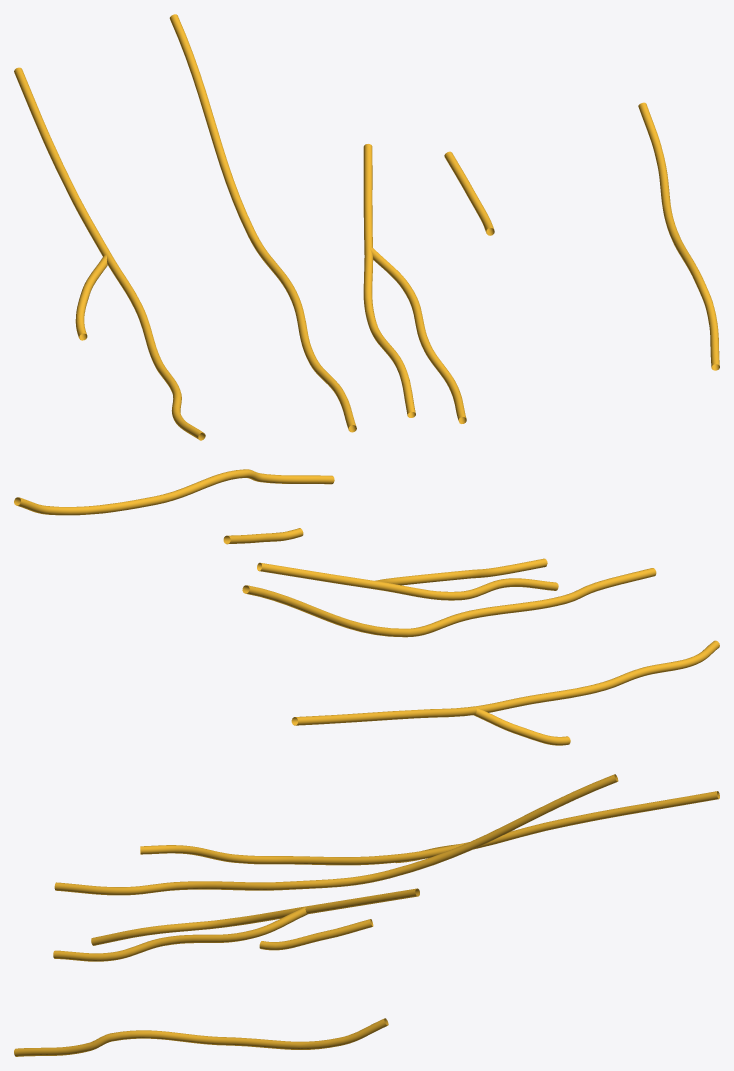
Rendered from nervoso-dorsal-digital-branches-of-superficial-fibular-nerve-r.glb.
3 views of the same model, one above another, from view 1: azimuth 30°, elevation 25°; view 2: azimuth 150°, elevation 25°; view 3: azimuth 270°, elevation 25° (orthographic). The views are drawn at different scales.
Visible parts, largest first — view 1: Dorsal digital branches of superficial fibular nerve.r; view 2: Dorsal digital branches of superficial fibular nerve.r; view 3: Dorsal digital branches of superficial fibular nerve.r.
Part boxes in pixels (<box>): Dorsal digital branches of superficial fibular nerve.r: <box>14,14,719,440</box>; Dorsal digital branches of superficial fibular nerve.r: <box>14,469,719,745</box>; Dorsal digital branches of superficial fibular nerve.r: <box>14,774,719,1056</box>.
Size of the model in its own units: 0.0765 by 0.0248 by 0.0845.
